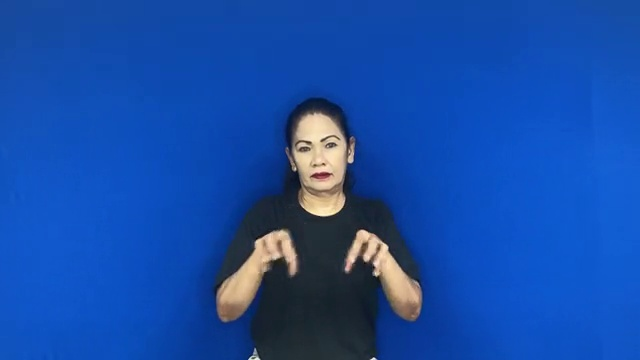egg: (241, 218, 393, 283)
